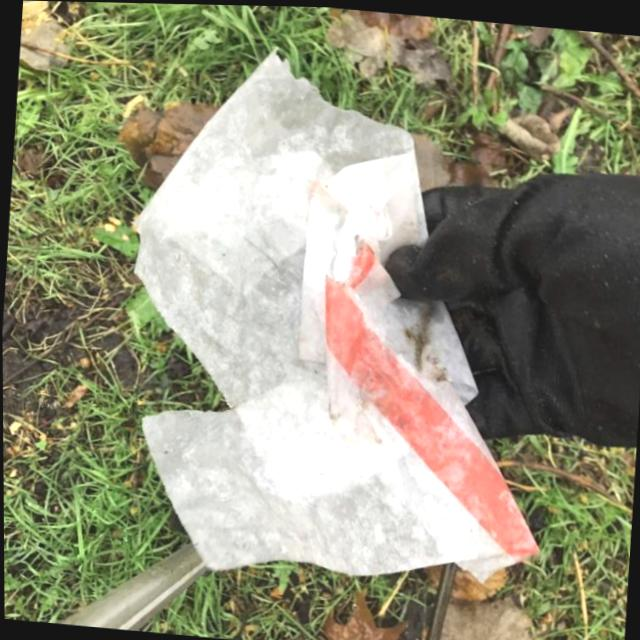Paper: (99, 24, 579, 604)
